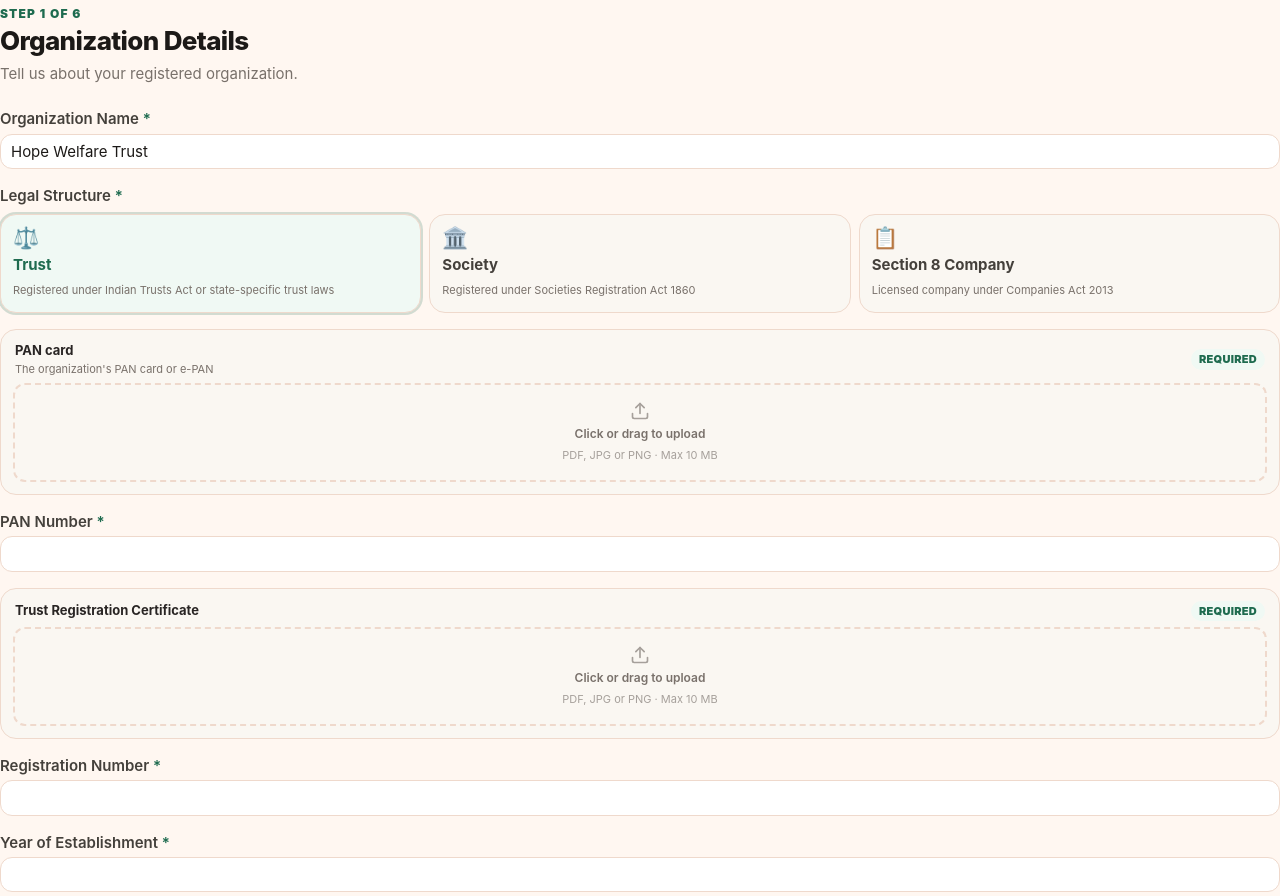
Test case: Step 1: Organization › shows the PAN letter warnings for the typed PAN, without blocking
This screenshot has width=1280, height=896.
Type "aaaph1234k" into the field labelled "PAN Number *". click: (640,554)
box: [0,536,1279,572]
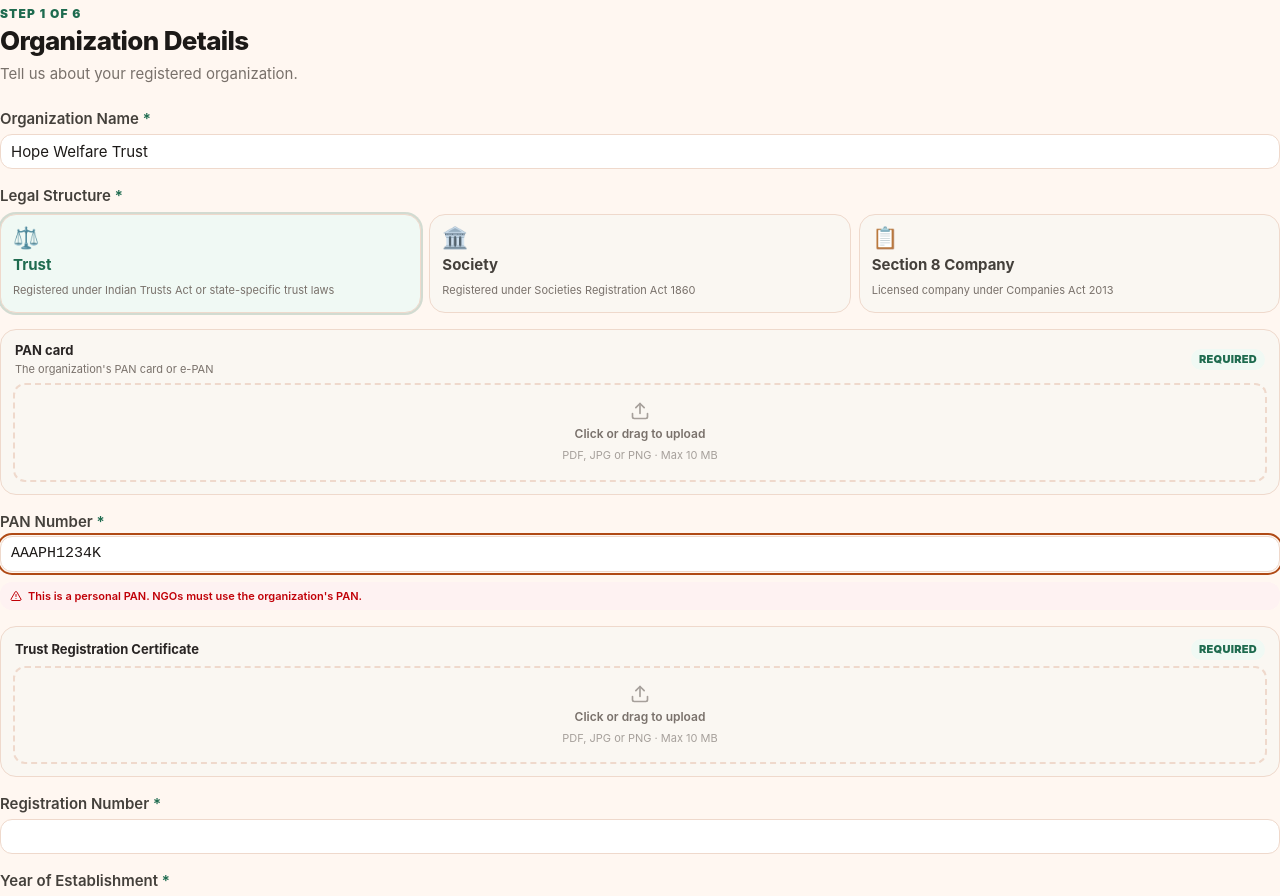
Expected: the list named "PAN check" shows "personal PAN", [28,589,362,603]
